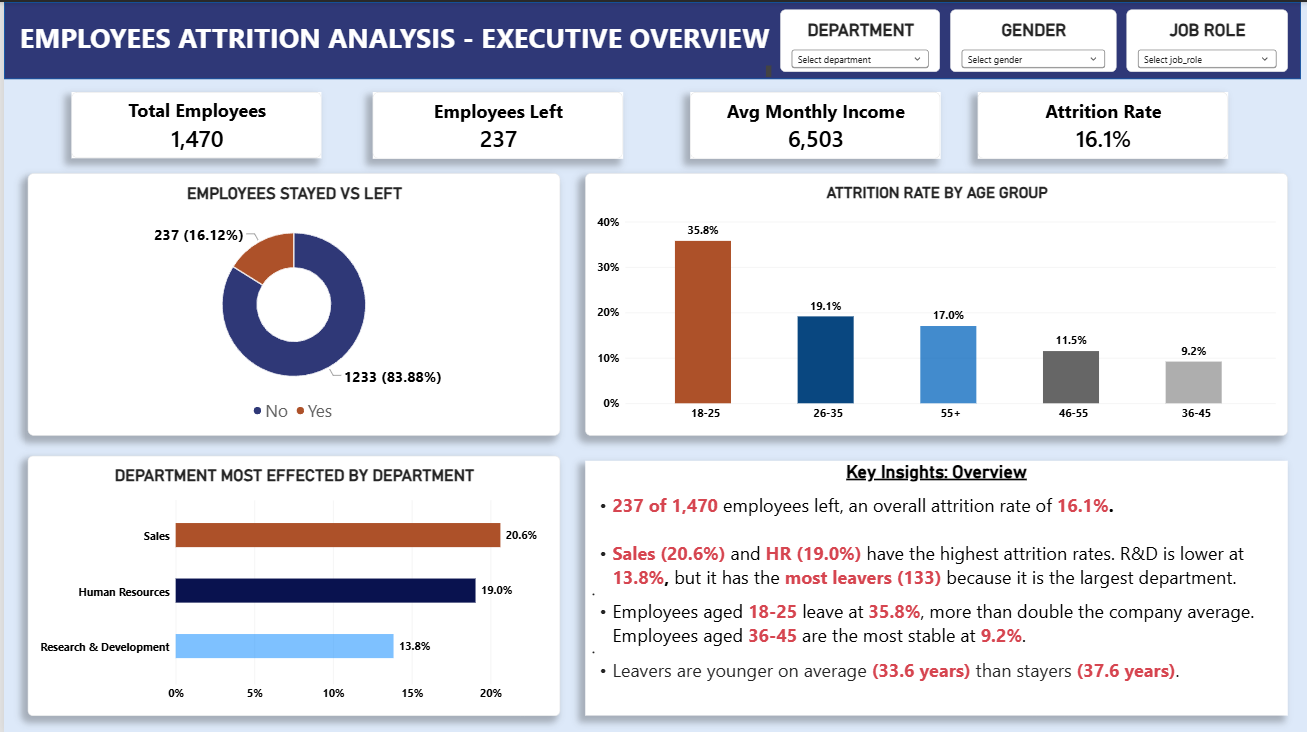

The dashboard page shown, as its layout file describes it:
{"tool":"powerbi","page":{"name":"OVERVIEW","canvas":[1920,1080],"ordinal":0},"visuals":[{"type":"shape","box":[0,0,1909.8,113.7],"z":0},{"type":"textbox","title":"EMPLOYEES ATTRITION ANALYSIS - EXECUTIVE OVERVIEW","box":[20.2,23.9,1109.8,90.2],"z":1000},{"type":"cardVisual","fields":{"Data":["public employee_attrition.Total Employees"]},"box":[99.4,132.5,368.1,97.5],"z":2000},{"type":"cardVisual","fields":{"Data":["public employee_attrition.Employees Left"]},"box":[543.1,133.3,368.6,98],"z":3000},{"type":"cardVisual","fields":{"Data":["public employee_attrition.Avg Monthly Income1"]},"box":[1009.8,133.3,368.6,98],"z":4000},{"type":"donutChart","title":"EMPLOYEES STAYED VS LEFT","fields":{"Category":["public employee_attrition.attrition"],"Y":["public employee_attrition.Total Employee"]},"box":[35,252.1,784.1,386.5],"z":5000},{"type":"clusteredBarChart","title":"DEPARTMENT MOST EFFECTED BY DEPARTMENT","fields":{"Category":["public employee_attrition.department"],"Y":["public employee_attrition.Attrition Rate"]},"box":[35,668.1,784.1,382.8],"z":6000},{"type":"clusteredColumnChart","title":"ATTRITION RATE BY AGE GROUP","fields":{"Category":["public employee_attrition.age_group"],"Y":["public employee_attrition.Attrition Rate"]},"box":[855.8,252.1,1034.4,386.5],"z":7000},{"type":"textbox","title":"Key Insights: Overview","box":[855.8,675.5,1034.4,375.5],"z":8000},{"type":"cardVisual","fields":{"Data":["public employee_attrition.Attrition Rate"]},"box":[1433.3,133.3,368.6,98],"z":9000},{"type":"listSlicer","title":"DEPARTMENT","fields":{"Values":["public employee_attrition.department"]},"box":[1143,11,235.6,92],"z":10000},{"type":"listSlicer","title":"GENDER","fields":{"Values":["public employee_attrition.gender"]},"box":[1393.3,11,244.8,92],"z":11000},{"type":"listSlicer","title":"JOB ROLE","fields":{"Values":["public employee_attrition.job_role"]},"box":[1652.8,11,237.4,92],"z":12000}]}

Visuals, with their boxes in screenshot pixels (x1, y1, x2, y2), scaled from the page's 1920x1080 canvas onto the 1307x732 screenshot:
shape: rect(0, 0, 1300, 77)
"EMPLOYEES ATTRITION ANALYSIS - EXECUTIVE OVERVIEW" textbox: rect(14, 16, 769, 77)
cardVisual - public employee_attrition.Total Employees: rect(68, 90, 318, 156)
cardVisual - public employee_attrition.Employees Left: rect(370, 90, 621, 157)
cardVisual - public employee_attrition.Avg Monthly Income1: rect(687, 90, 938, 157)
"EMPLOYEES STAYED VS LEFT" donutChart: rect(24, 171, 558, 433)
"DEPARTMENT MOST EFFECTED BY DEPARTMENT" clusteredBarChart: rect(24, 453, 558, 712)
"ATTRITION RATE BY AGE GROUP" clusteredColumnChart: rect(583, 171, 1287, 433)
"Key Insights: Overview" textbox: rect(583, 458, 1287, 712)
cardVisual - public employee_attrition.Attrition Rate: rect(976, 90, 1227, 157)
"DEPARTMENT" listSlicer: rect(778, 7, 938, 70)
"GENDER" listSlicer: rect(948, 7, 1115, 70)
"JOB ROLE" listSlicer: rect(1125, 7, 1287, 70)
